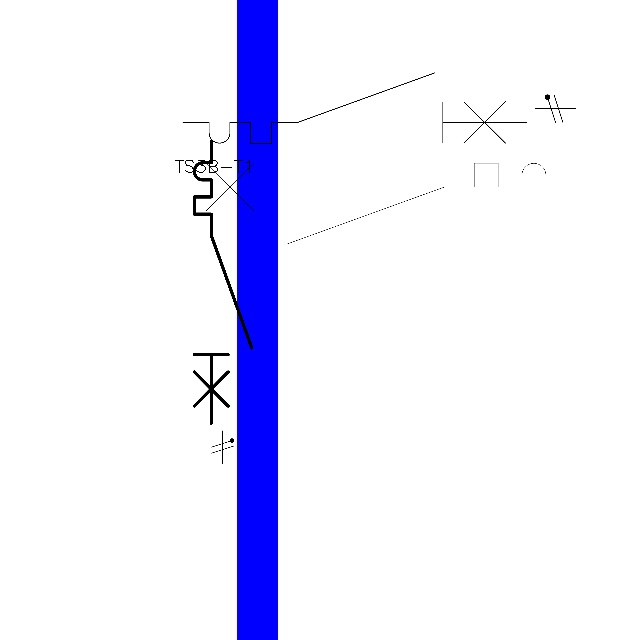interruptor_termomagnetico: (172, 153, 586, 254), (174, 64, 535, 152), (187, 134, 259, 431)
